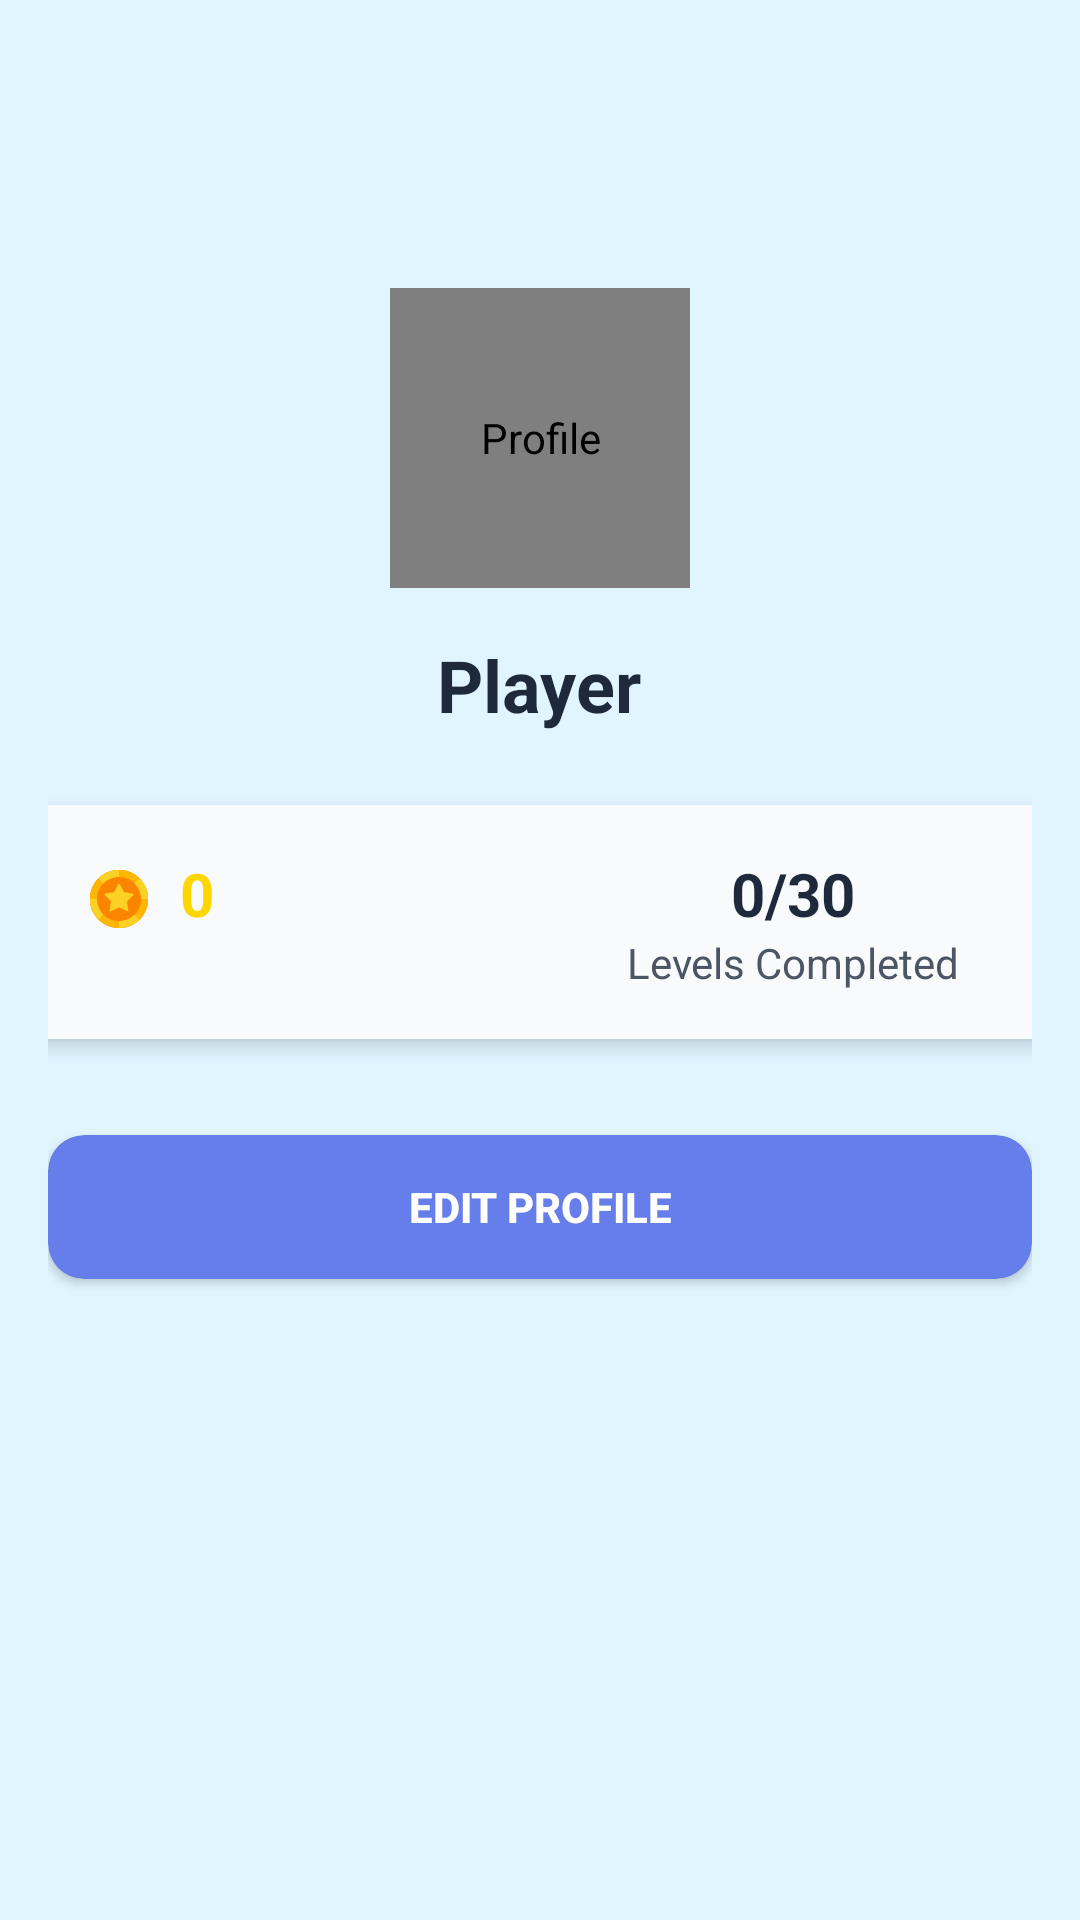

Icon click points for this 1080 x 1920 phone screenshot, format (x,y):
Coin: (119,899)
